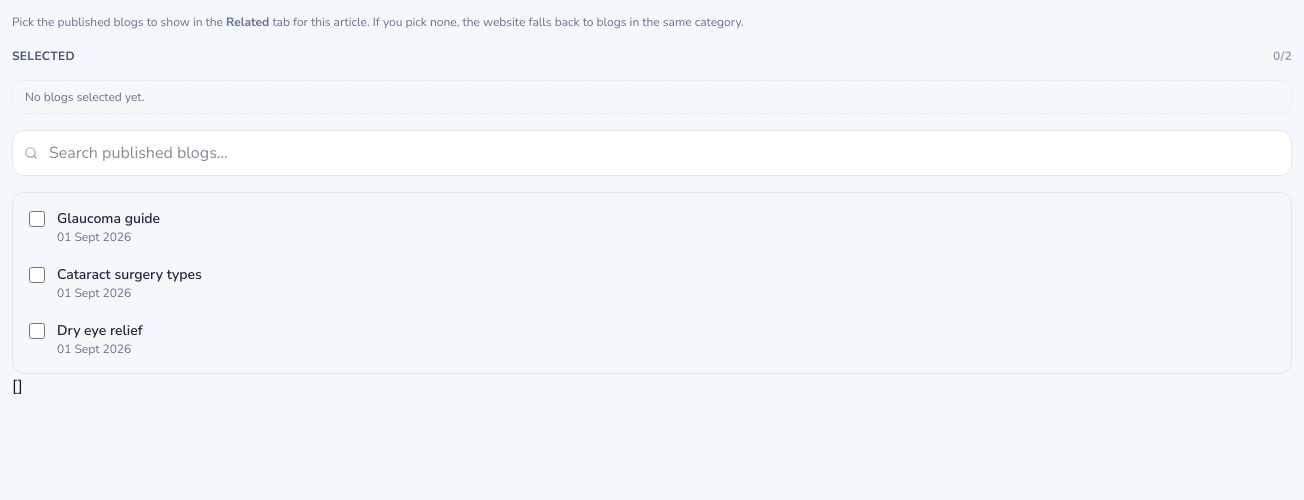
Scenario: RelatedBlogsPicker › keeps the picked order and enforces the maximum
Click the checkbox labelled "Dry eye relief 01 Sept 2026" at (37, 331), box [29,323,45,339]
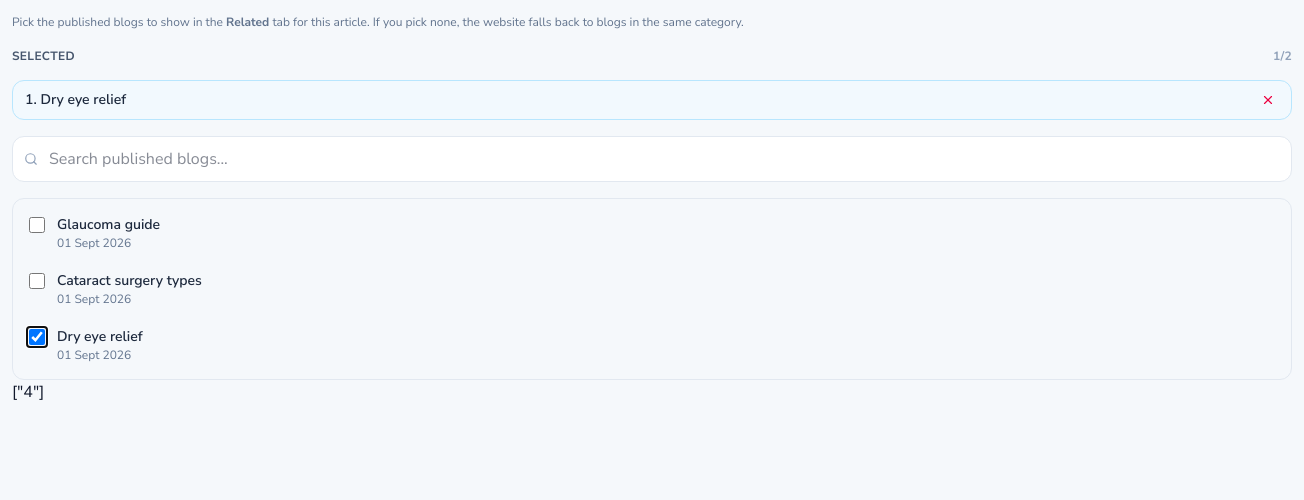
Click the checkbox labelled "Glaucoma guide 01 Sept 2026" at (37, 225), box [29,217,45,233]
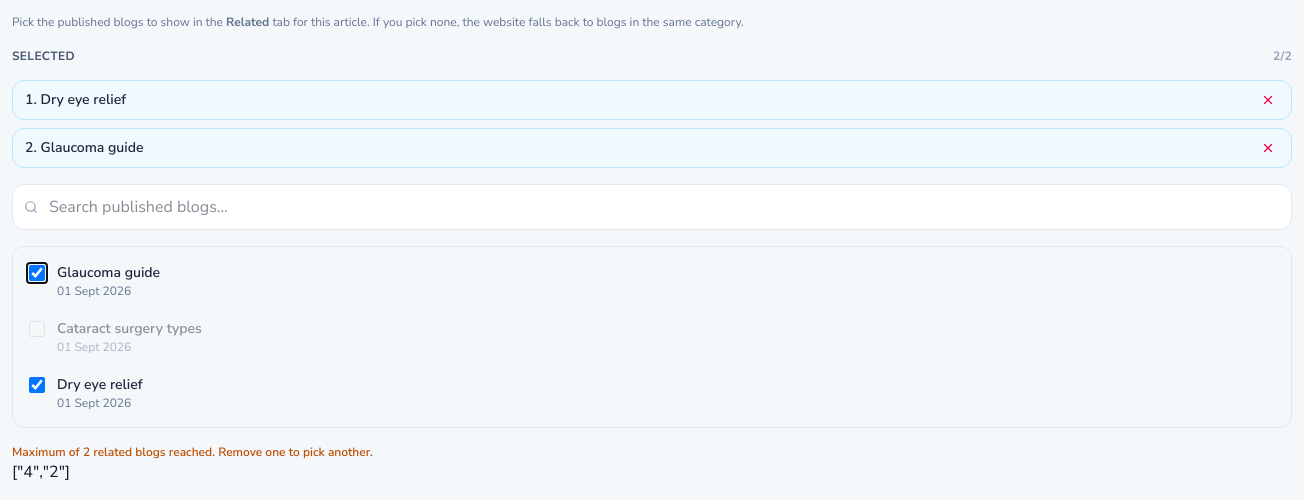
Now the text "[\"4\",\"2\"]" is shown, box [12,461,70,483]
Now the text "2/2" is shown, box [1273,48,1292,64]
Click the button named "Remove Dry eye relief" at (1268, 100), box [1257,89,1279,111]
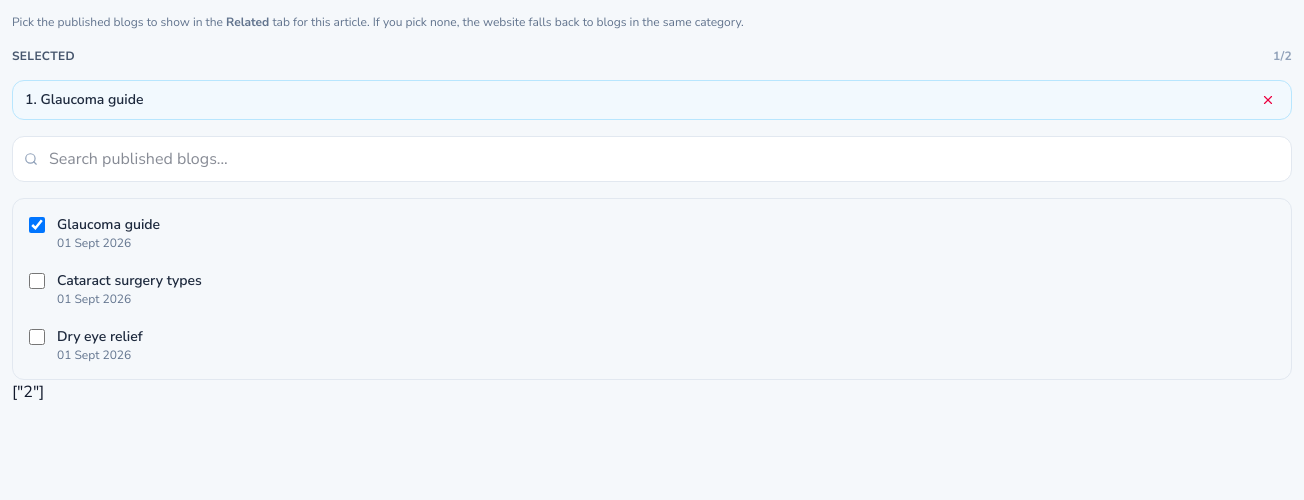
Now the text "[\"2\"]" is shown, box [12,381,44,403]
Now the checkbox labelled "Cataract surgery types 01 Sept 2026" is enabled, box [29,273,45,289]
